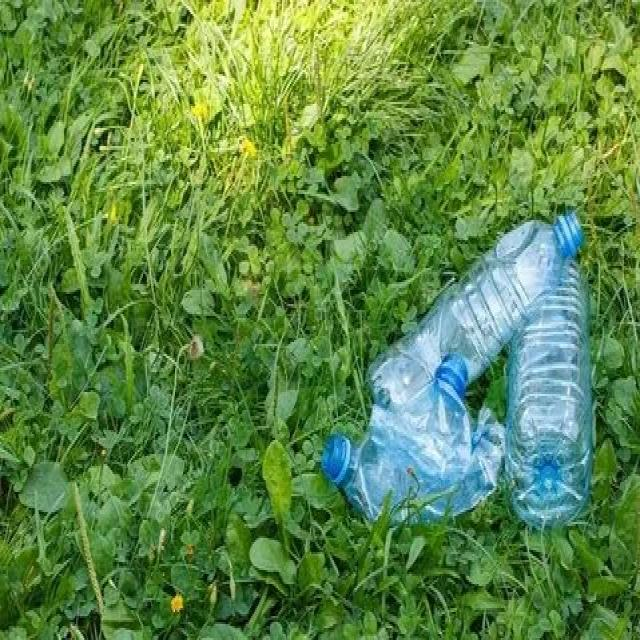blue: (366, 208, 584, 412), (507, 257, 591, 533), (324, 407, 508, 520), (373, 358, 471, 457)
